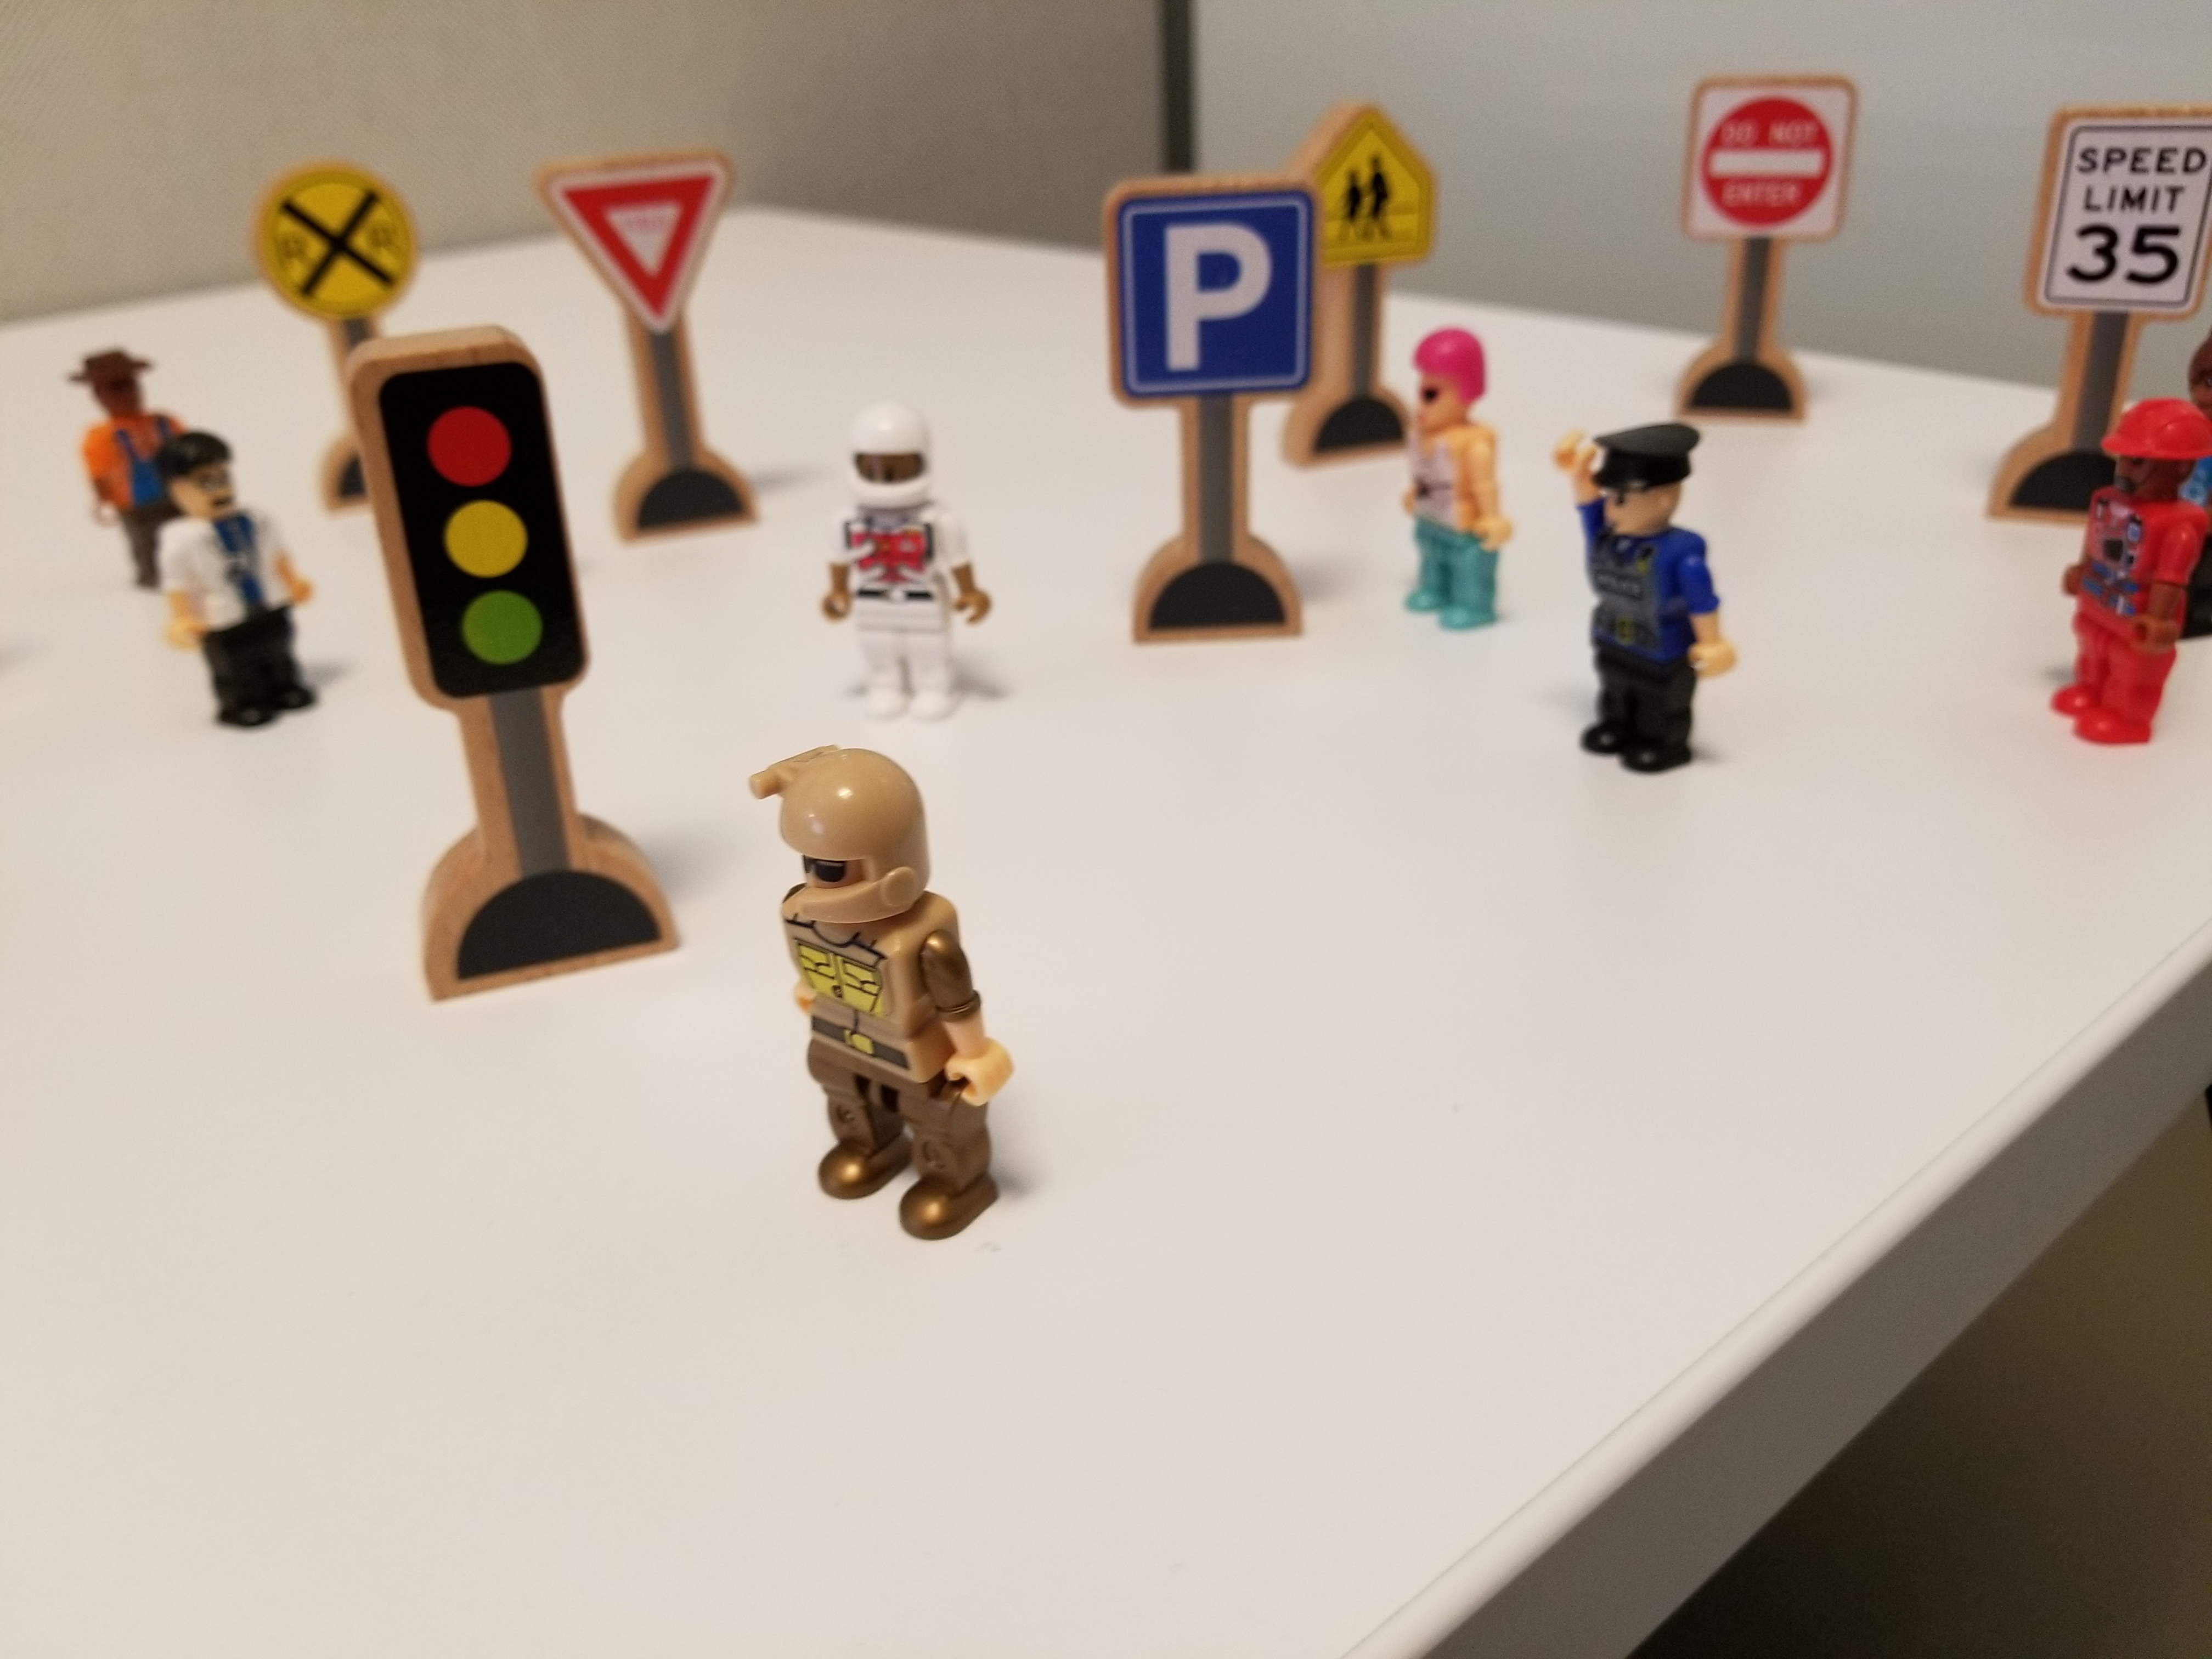Do not enter: (1671, 34, 1866, 387)
Parking: (1085, 139, 1333, 684)
Railroad Crossing: (240, 144, 442, 330)
Speed limit 35: (2033, 74, 2212, 323)
Traffic Light: (326, 326, 695, 1013)
Yield: (526, 122, 763, 337)
person: (714, 725, 1043, 1245), (1544, 387, 1759, 811), (795, 392, 1011, 725), (122, 433, 328, 736), (2066, 387, 2212, 772), (1384, 311, 1522, 646)
